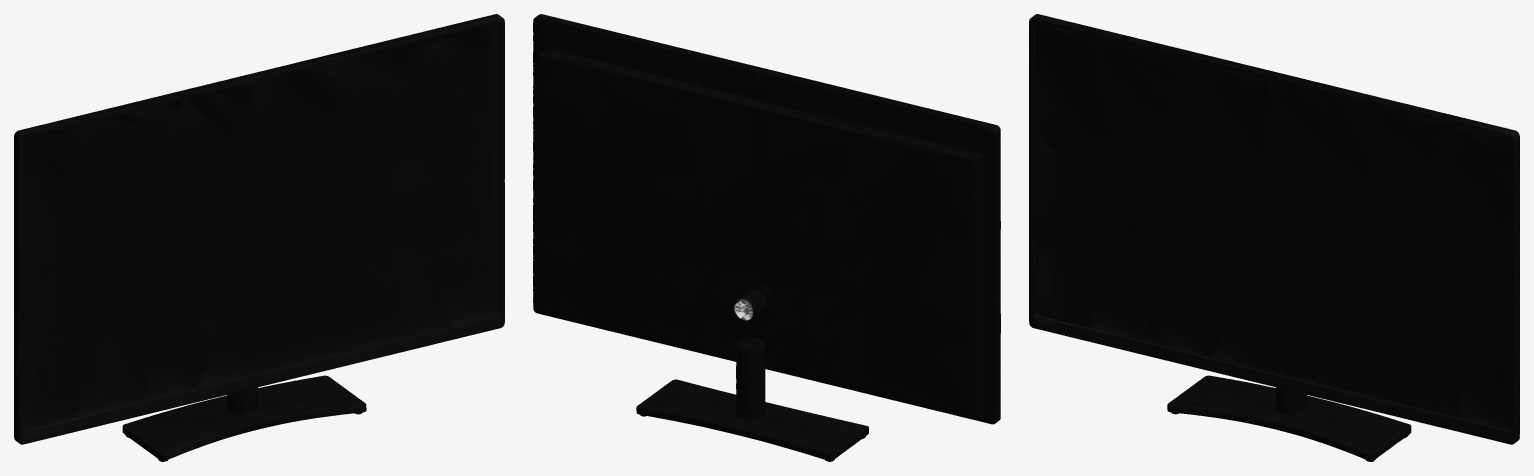
3 views of the same model, side by side, from view 1: azimuth 30°, elevation 25°; view 2: azimuth 150°, elevation 25°; view 3: azimuth 330°, elevation 25° (orthographic). The views are drawn at different scales.
Size of the model in its own units: 1.9 by 1.35 by 0.2776.
1 material, 1 textured.
